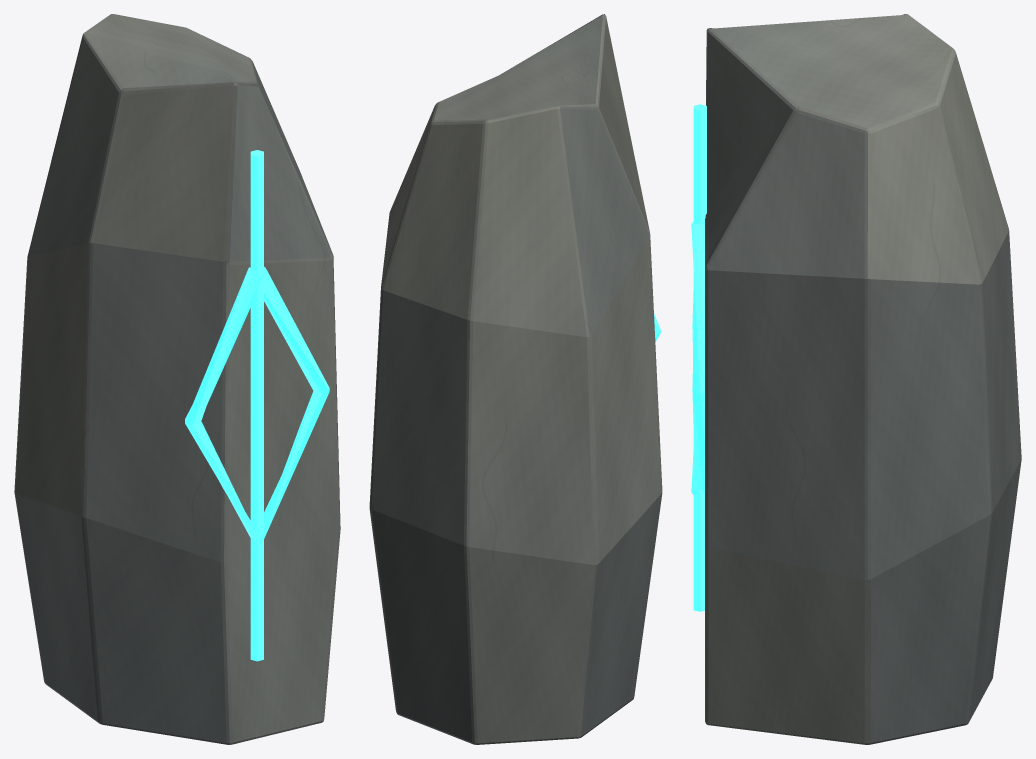
File: forest_rune_monolith.glb
3 renders of one model, left to right at view 1: azimuth 30°, elevation 25°; view 2: azimuth 150°, elevation 25°; view 3: azimuth 270°, elevation 25°, orthographic. The views are drawn at different scales.
Visible parts, largest first — view 1: Weathered shrine monolith, Glowing diamond rune, Rune vertical stroke; view 2: Weathered shrine monolith; view 3: Weathered shrine monolith, Glowing diamond rune, Rune vertical stroke.
Boxes of the visible parts, x1,y1,x2,y2 form: Weathered shrine monolith: [14, 14, 340, 744]; Glowing diamond rune: [185, 266, 329, 546]; Rune vertical stroke: [250, 150, 263, 661]; Weathered shrine monolith: [369, 14, 662, 744]; Weathered shrine monolith: [705, 14, 1021, 744]; Glowing diamond rune: [691, 221, 704, 495]; Rune vertical stroke: [693, 104, 706, 611].
Bounding box in the file's own units: 0.7015 × 1.69 × 0.7709.
Materials: 3 (2 with a texture image).
